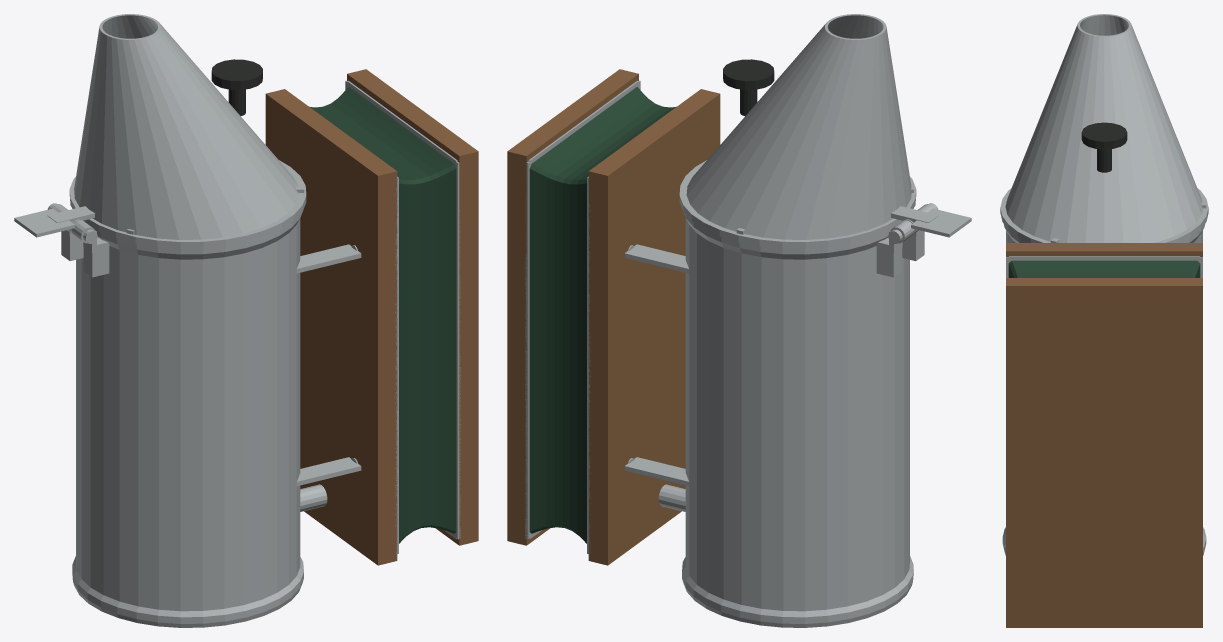
The picture shows the model from 3 angles, left to right: view 1: azimuth 30°, elevation 25°; view 2: azimuth 150°, elevation 25°; view 3: azimuth 270°, elevation 25°; orthographic projection. The views are drawn at different scales.
Visible parts, largest first — view 1: chamber_wall.001, bellows_fixed_board.001, lid_cone.001, flexible_bellows_skin.001, bellows_rear_board.001, bottom_rolled_seam.001, lid_seating_flange.001, mouth_rolled_rim.001, skin_vertical_clamp__0_1005___0_044_.001, handle_cap.001, bracket__0_145___0_027_.001, bracket__0_05___0_027_.001 (+4 smaller); view 2: chamber_wall.001, bellows_fixed_board.001, lid_cone.001, flexible_bellows_skin.001, bellows_rear_board.001, bottom_rolled_seam.001, lid_seating_flange.001, mouth_rolled_rim.001, skin_vertical_clamp__0_1005__0_044_.001, handle_cap.001, skin_vertical_clamp__0_0715__0_044_.001, bracket__0_145__0_027_.001 (+4 smaller); view 3: bellows_rear_board.001, lid_cone.001, flexible_bellows_skin.001, bellows_fixed_board.001, lid_seating_flange.001, handle_cap.001, skin_horizontal_clamp__0_0715__0_182_.001, handle_stem.001.
Boxes of the visible parts, box(x1,y1,x2,y2) form: chamber_wall.001: box(76, 218, 300, 611); bellows_fixed_board.001: box(265, 89, 397, 565); lid_cone.001: box(74, 14, 299, 239); flexible_bellows_skin.001: box(309, 87, 456, 543); bellows_rear_board.001: box(347, 69, 478, 545); bottom_rolled_seam.001: box(72, 556, 303, 627); lid_seating_flange.001: box(69, 160, 306, 248); mouth_rolled_rim.001: box(95, 212, 302, 259); skin_vertical_clamp__0_1005___0_044_.001: box(455, 161, 460, 539); handle_cap.001: box(211, 59, 262, 89); bracket__0_145___0_027_.001: box(296, 244, 361, 273); bracket__0_05___0_027_.001: box(296, 457, 361, 486); chamber_wall.001: box(685, 218, 909, 611); bellows_fixed_board.001: box(588, 89, 720, 565); lid_cone.001: box(686, 14, 911, 239); flexible_bellows_skin.001: box(529, 87, 676, 543); bellows_rear_board.001: box(507, 69, 638, 545); bottom_rolled_seam.001: box(682, 556, 913, 627); lid_seating_flange.001: box(679, 160, 916, 248); mouth_rolled_rim.001: box(683, 212, 890, 259); skin_vertical_clamp__0_1005__0_044_.001: box(525, 160, 531, 539); handle_cap.001: box(723, 59, 774, 89); skin_vertical_clamp__0_0715__0_044_.001: box(587, 176, 590, 553); bracket__0_145__0_027_.001: box(624, 244, 689, 273); bellows_rear_board.001: box(1006, 278, 1202, 627); lid_cone.001: box(1005, 14, 1202, 242); flexible_bellows_skin.001: box(1008, 260, 1200, 277); bellows_fixed_board.001: box(1006, 243, 1202, 257); lid_seating_flange.001: box(1000, 188, 1208, 242); handle_cap.001: box(1081, 122, 1127, 149); skin_horizontal_clamp__0_0715__0_182_.001: box(1009, 256, 1199, 261); handle_stem.001: box(1097, 149, 1111, 172).
Size of the model in its own units: 0.1855 by 0.253 by 0.096.
